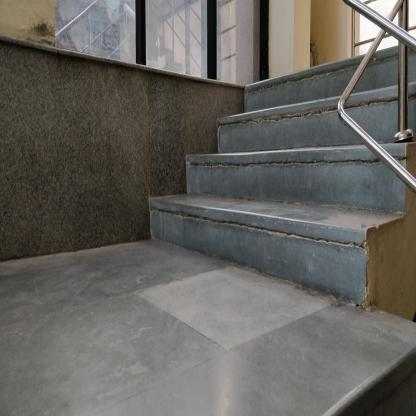stairs: (196, 142, 362, 316)
